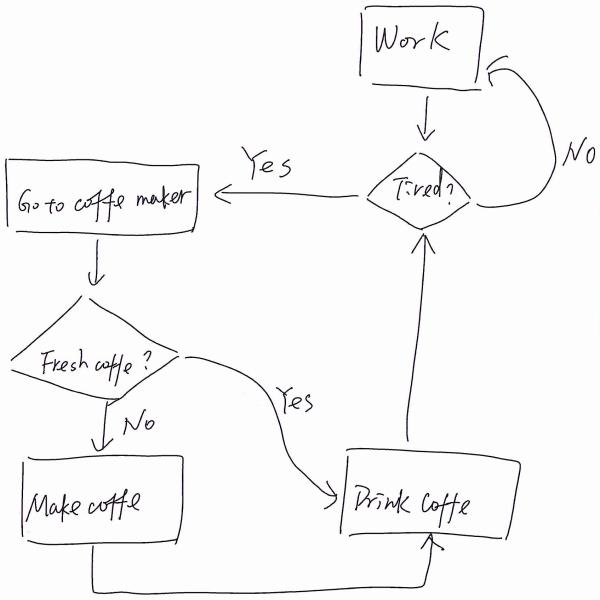arrow: (181, 350, 340, 514), (73, 535, 455, 587), (480, 47, 564, 222), (398, 233, 443, 444), (209, 179, 366, 223), (71, 228, 116, 292), (89, 398, 121, 459)
decision: (2, 289, 183, 408), (368, 148, 475, 236)
process: (0, 148, 209, 250), (339, 445, 543, 544), (9, 454, 195, 544)
text: (18, 183, 192, 224), (352, 476, 482, 523), (33, 341, 158, 386), (20, 490, 148, 532), (374, 15, 462, 67), (232, 134, 299, 188), (393, 168, 470, 211), (280, 378, 318, 424), (560, 130, 597, 174), (118, 406, 158, 444)
